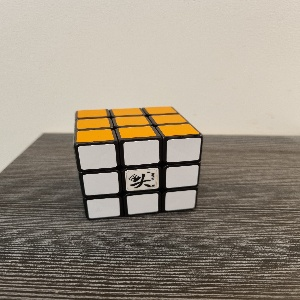cube: (74, 106, 204, 221)
